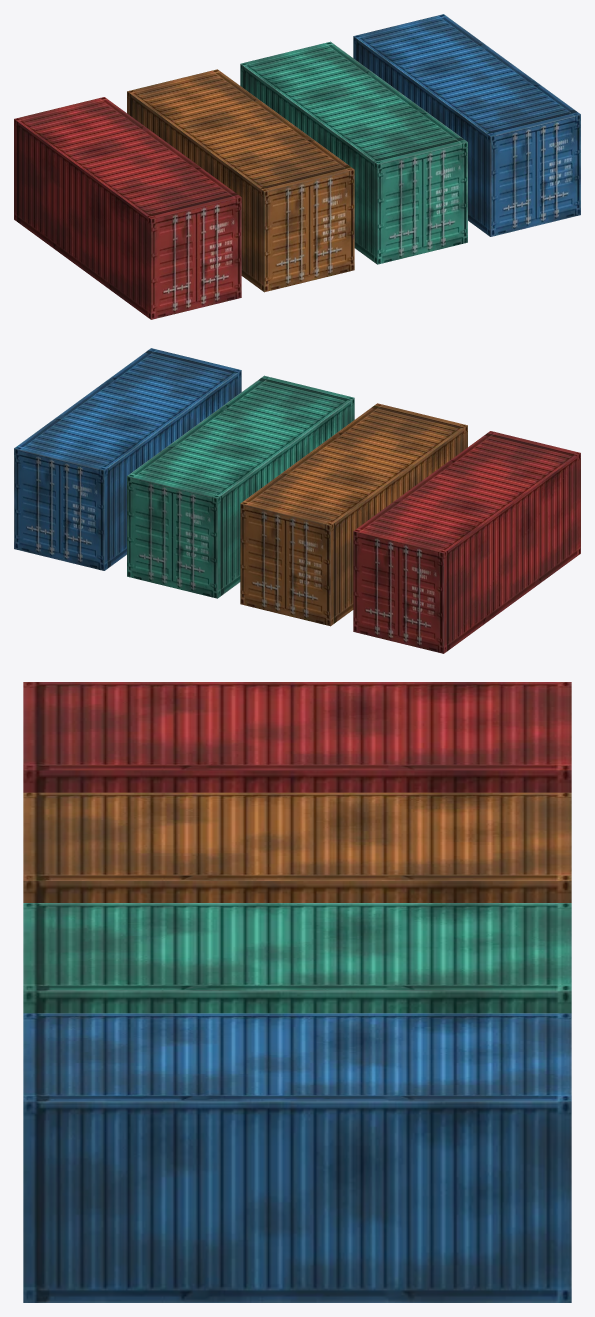
File: psx_containers.glb
The picture shows the model from 3 angles, top to bottom: view 1: azimuth 30°, elevation 25°; view 2: azimuth 150°, elevation 25°; view 3: azimuth 270°, elevation 25°; orthographic projection. The views are drawn at different scales.
Parts seen in each view (by area): view 1: cargo_1, cargo_2, cargo, cargo_3; view 2: cargo_1, cargo_2, cargo, cargo_3; view 3: cargo_3, cargo, cargo_1, cargo_2.
Part boxes in pixels (box(x1,y1,x2,y2)): cargo_1: box(14, 97, 241, 319); cargo_2: box(127, 69, 354, 292); cargo: box(240, 41, 467, 264); cargo_3: box(353, 14, 580, 236); cargo_1: box(353, 431, 580, 653); cargo_2: box(240, 403, 467, 626); cargo: box(127, 375, 354, 598); cargo_3: box(14, 348, 241, 570); cargo_3: box(23, 1013, 571, 1302); cargo: box(23, 903, 571, 1013); cargo_1: box(23, 682, 571, 792); cargo_2: box(23, 792, 571, 902).
Size of the model in its own units: 4.75 by 1.06 by 2.62.
Materials: 4 (4 with a texture image).
